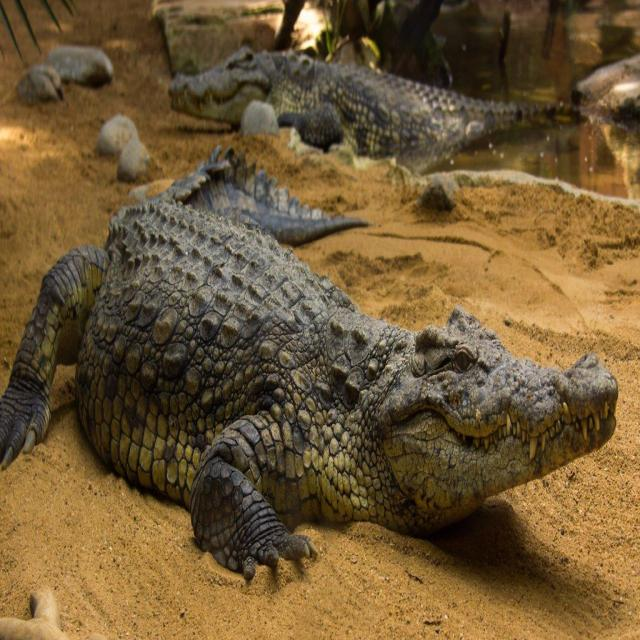crocodile: (3, 142, 611, 567), (169, 49, 568, 150)
